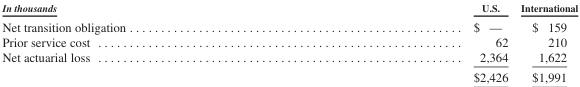table: (1, 1, 577, 84)
table column: (1, 1, 298, 84), (298, 1, 513, 84), (513, 1, 577, 84)
table column header: (1, 1, 577, 16)
table row: (1, 16, 577, 34), (1, 49, 577, 67), (1, 67, 577, 84), (1, 1, 577, 16), (1, 34, 577, 49)
